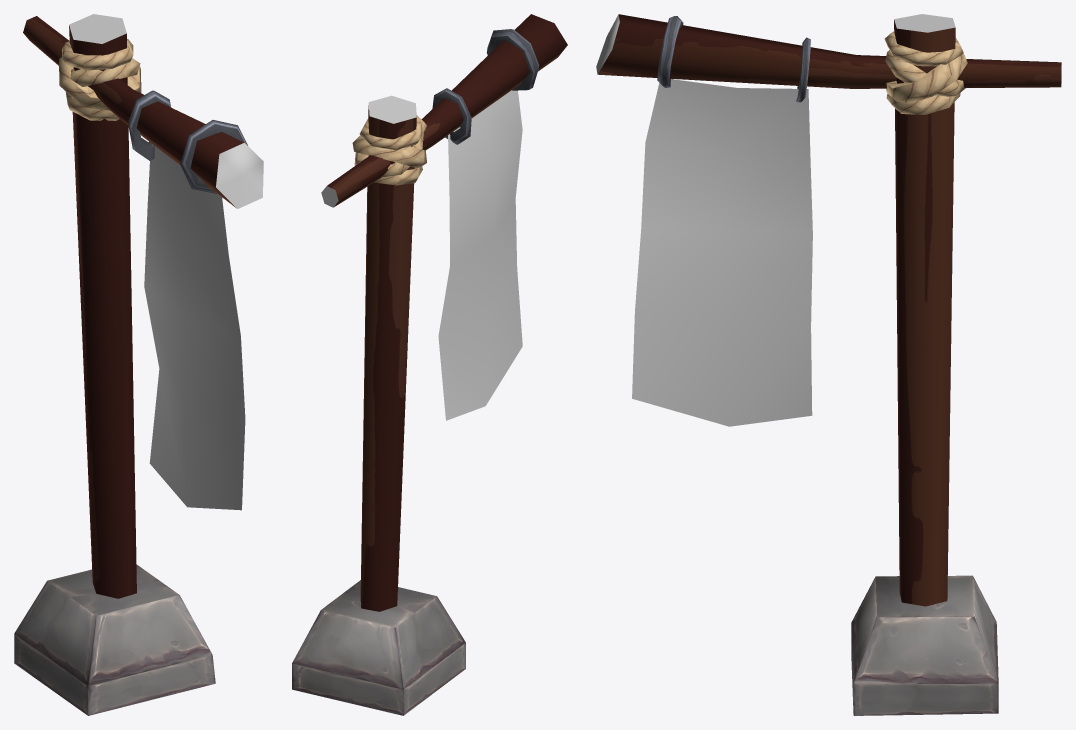
File: SM_PROP_flag_01.fbx
3 renders of one model, left to right at view 1: azimuth 30°, elevation 25°; view 2: azimuth 150°, elevation 25°; view 3: azimuth 270°, elevation 25°, orthographic. The views are drawn at different scales.
Visible parts, largest first — view 1: SM_PROP_flag_01; view 2: SM_PROP_flag_01; view 3: SM_PROP_flag_01.
Boxes of the visible parts, <box> form: SM_PROP_flag_01: <box>14,14,263,715</box>; SM_PROP_flag_01: <box>292,14,567,715</box>; SM_PROP_flag_01: <box>596,14,1061,715</box>.
Bounding box in the file's own units: 123 × 587 × 378.
